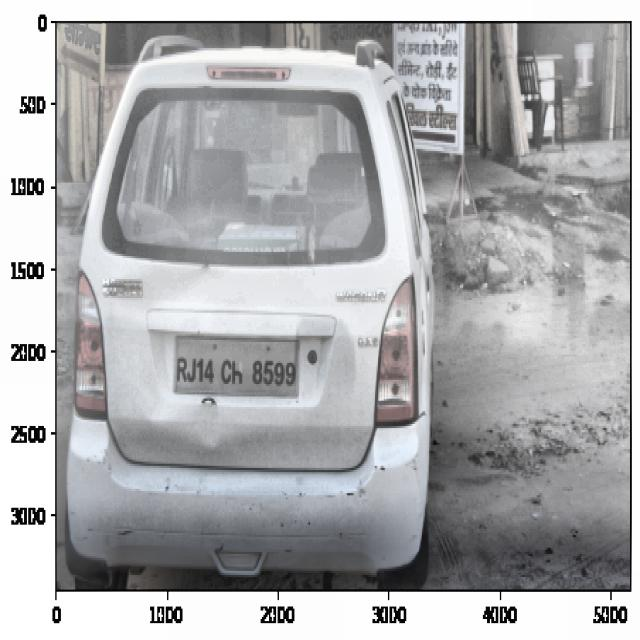license_plate: (170, 349, 299, 401)
